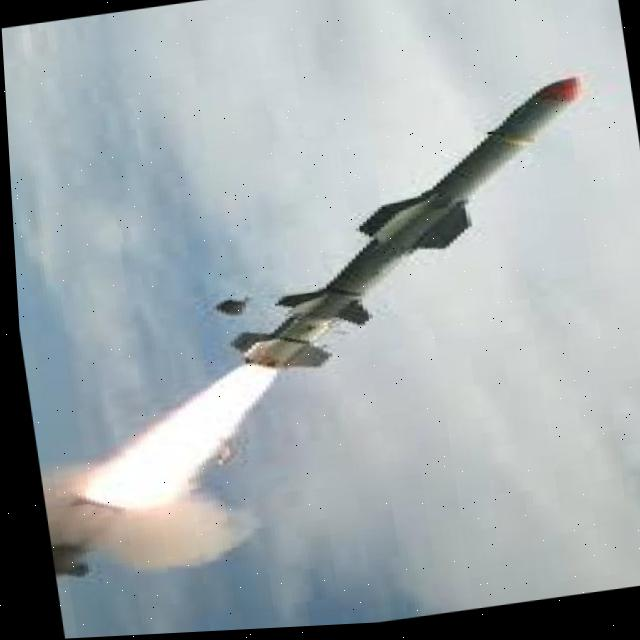missile: (197, 72, 622, 389)
